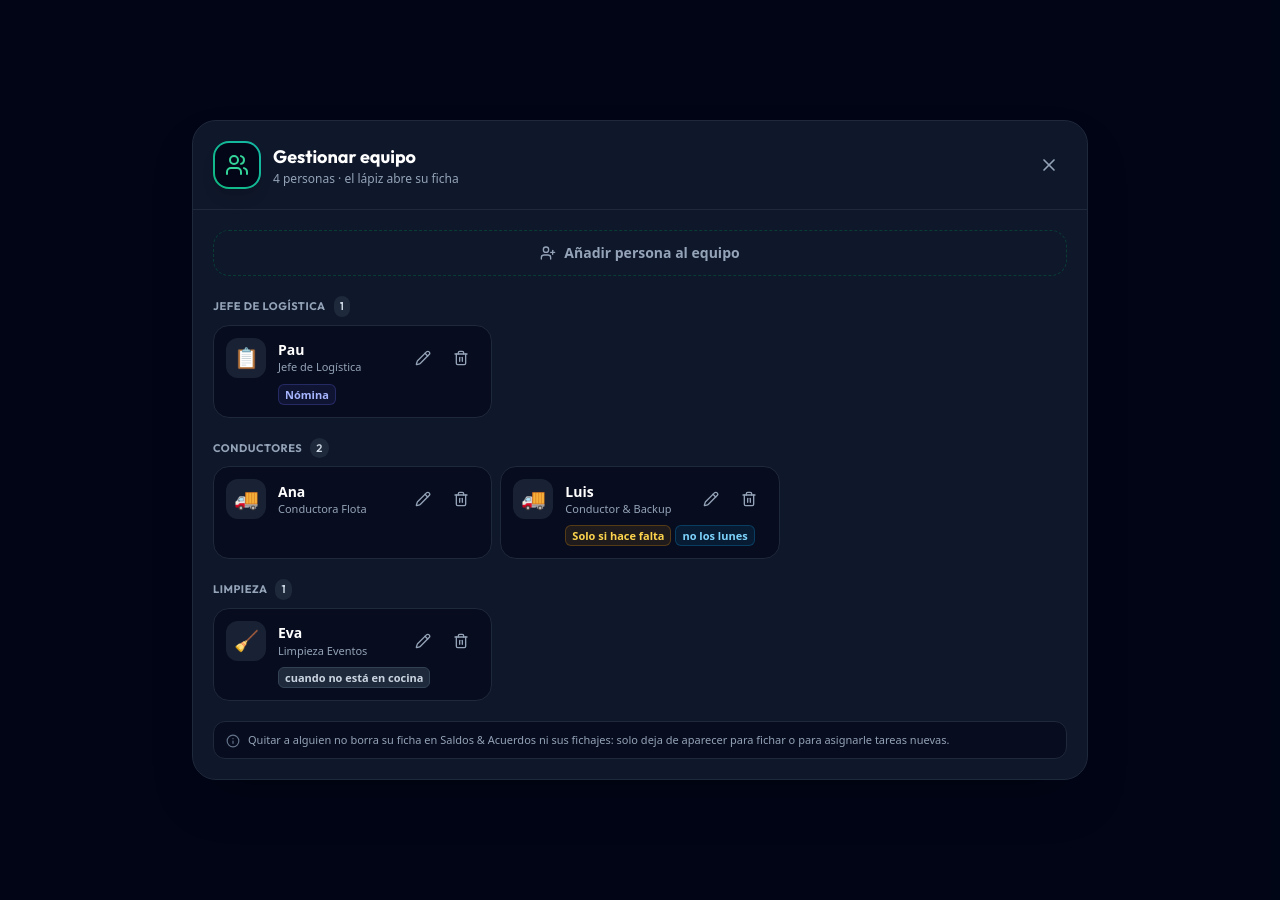
Scenario: AdminWorkerEditorModal (Gestionar equipo) › no añade a alguien con un nombre que ya existe
The width and height of the screenshot is (1280, 900).
Click the button "Añadir persona al equipo" at (640, 253), box [213,230,1067,276]
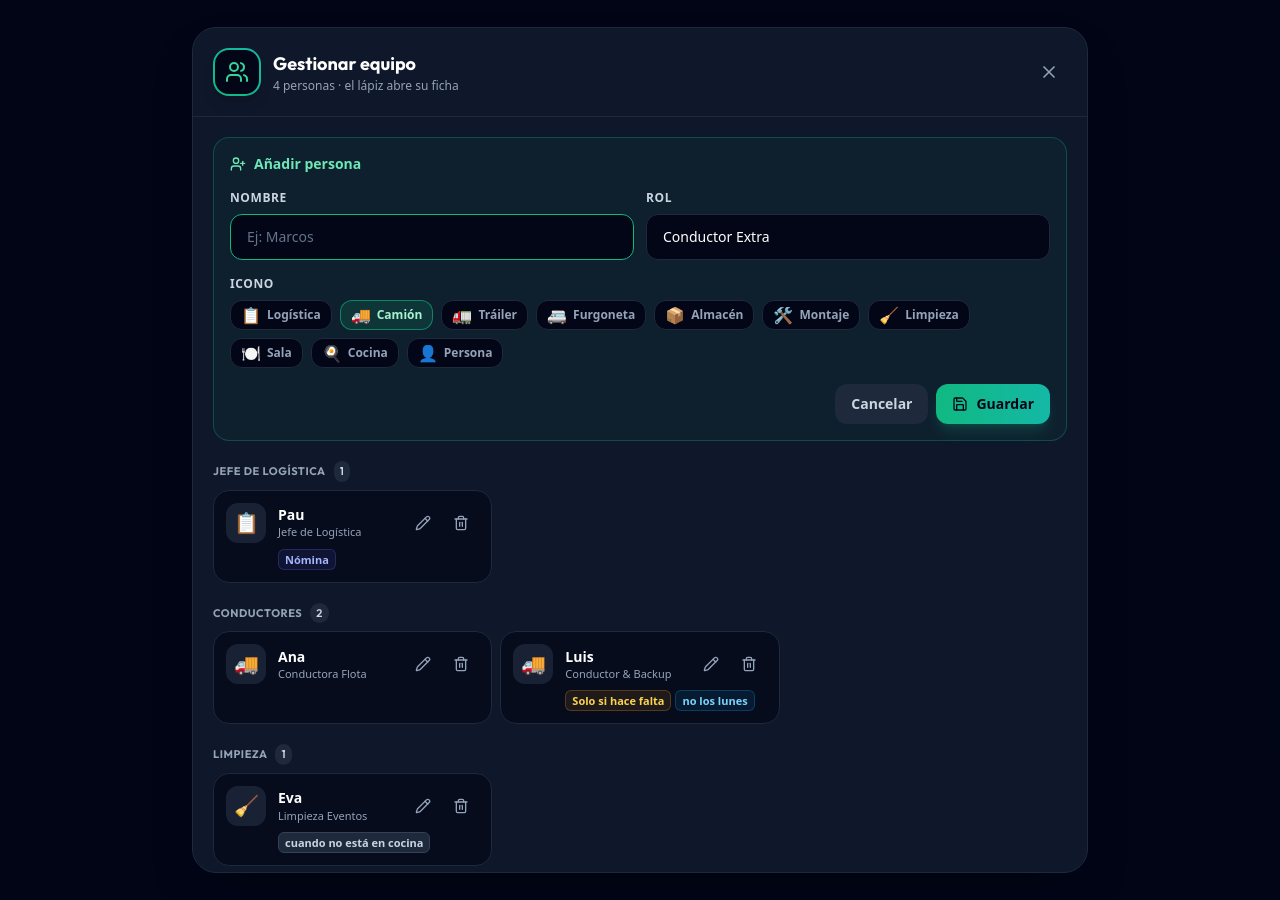
Type "ana" into the field with placeholder "Ej: Marcos" at (432, 237), box [230,214,634,260]
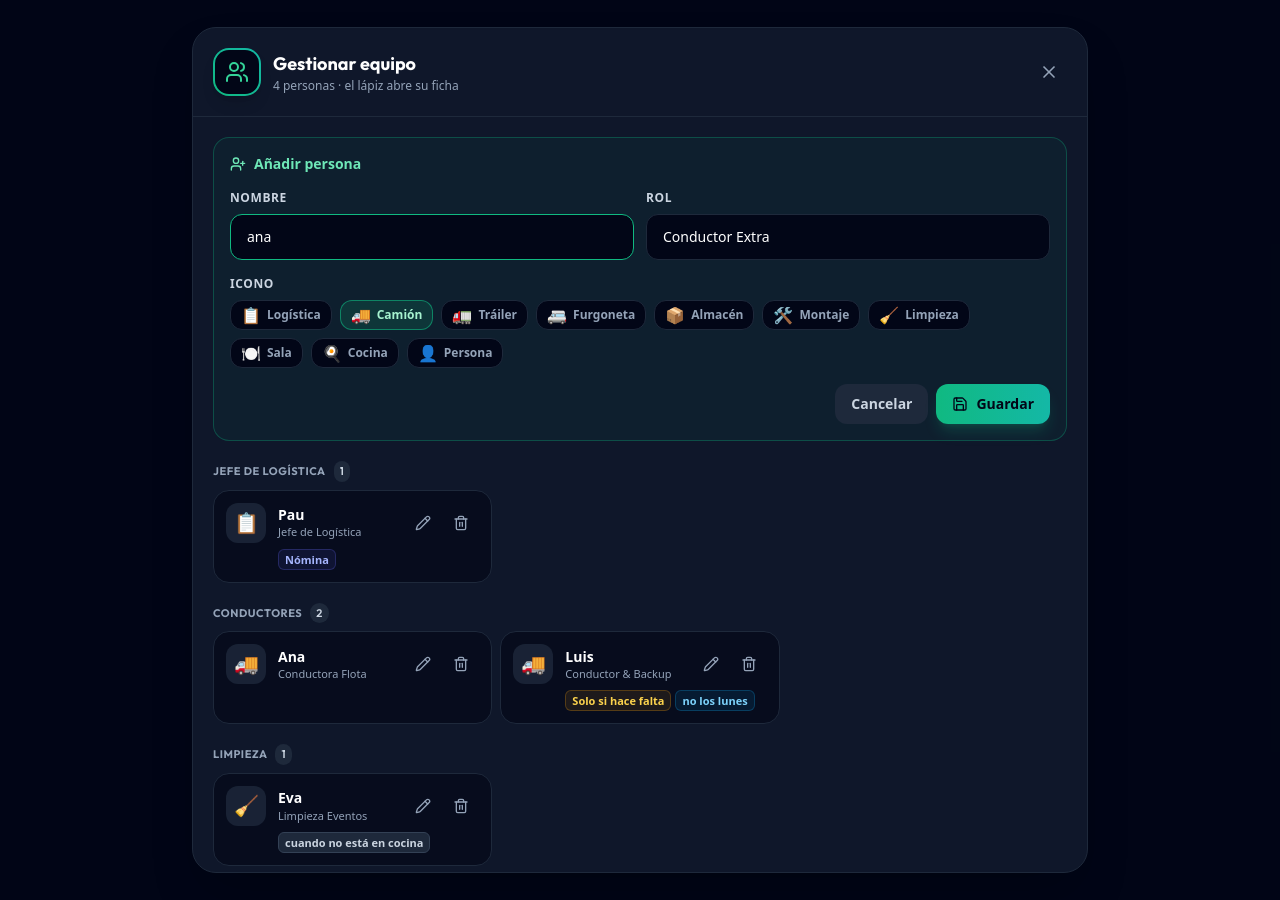
Click the button "Guardar" at (993, 404), box [936,384,1050,424]
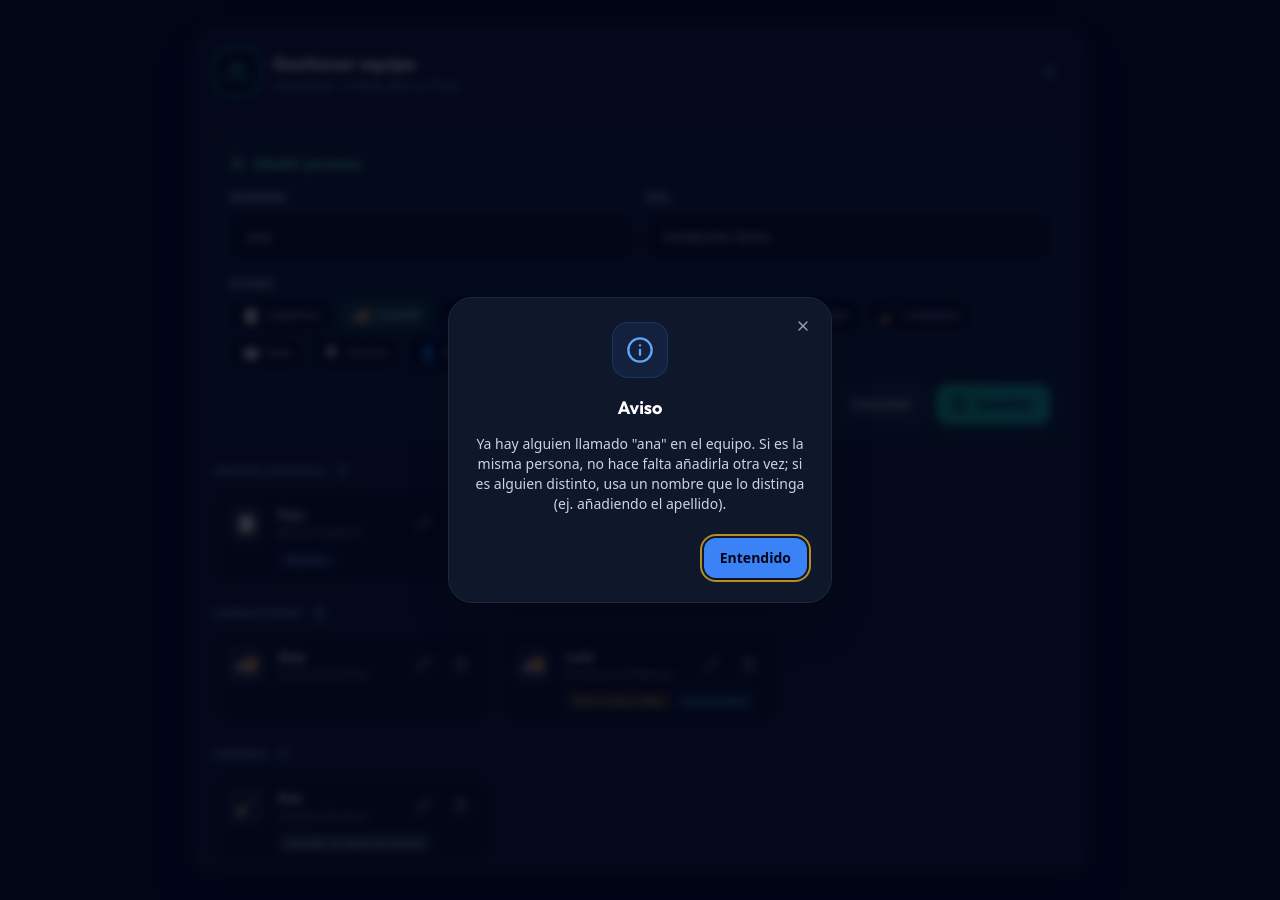
Expected: the text "Ya hay alguien llamado \"ana\"" is shown, [476,434,804,513]
